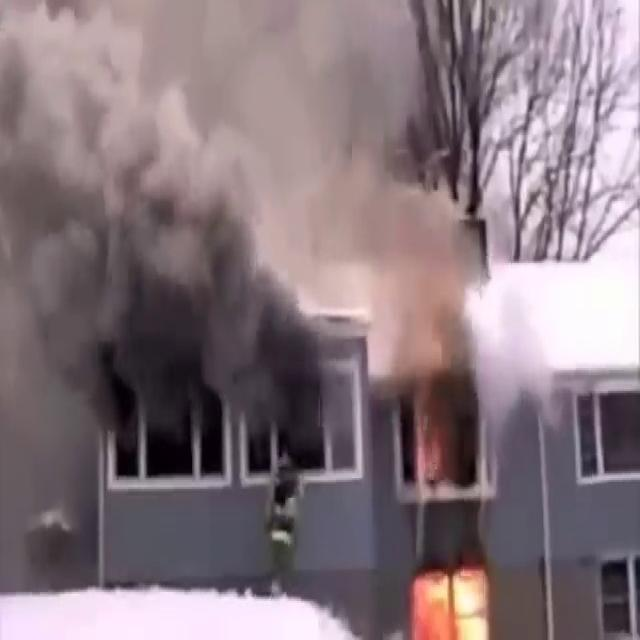Fire: (405, 552, 500, 639)
Smoke: (0, 0, 464, 562)
